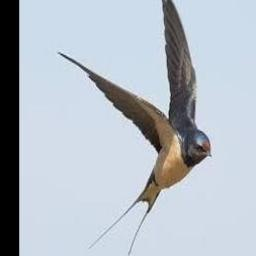Swallow: (56, 0, 211, 255)
